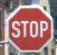Stop sign: (0, 0, 56, 54)
